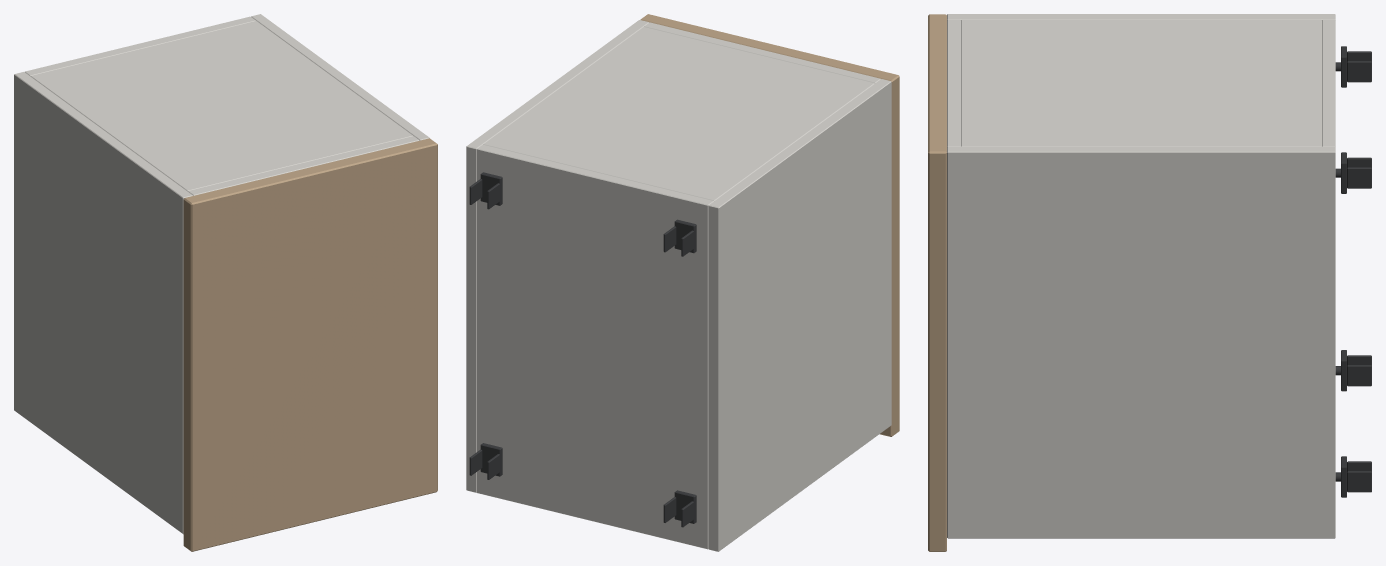
The model's file is mobile_pedestal_body.glb.
The picture shows the model from 3 angles, left to right: view 1: azimuth 30°, elevation 25°; view 2: azimuth 150°, elevation 25°; view 3: azimuth 270°, elevation 25°; orthographic projection. The views are drawn at different scales.
Visible parts, largest first — view 1: export_tmp; view 2: export_tmp; view 3: export_tmp.
Boxes of the visible parts, left/top/right/bottom form: export_tmp: left=14, top=14, right=437, bottom=551; export_tmp: left=466, top=14, right=899, bottom=551; export_tmp: left=928, top=14, right=1371, bottom=551.
Size of the model in its own units: 0.43 by 0.58 by 0.5825.
